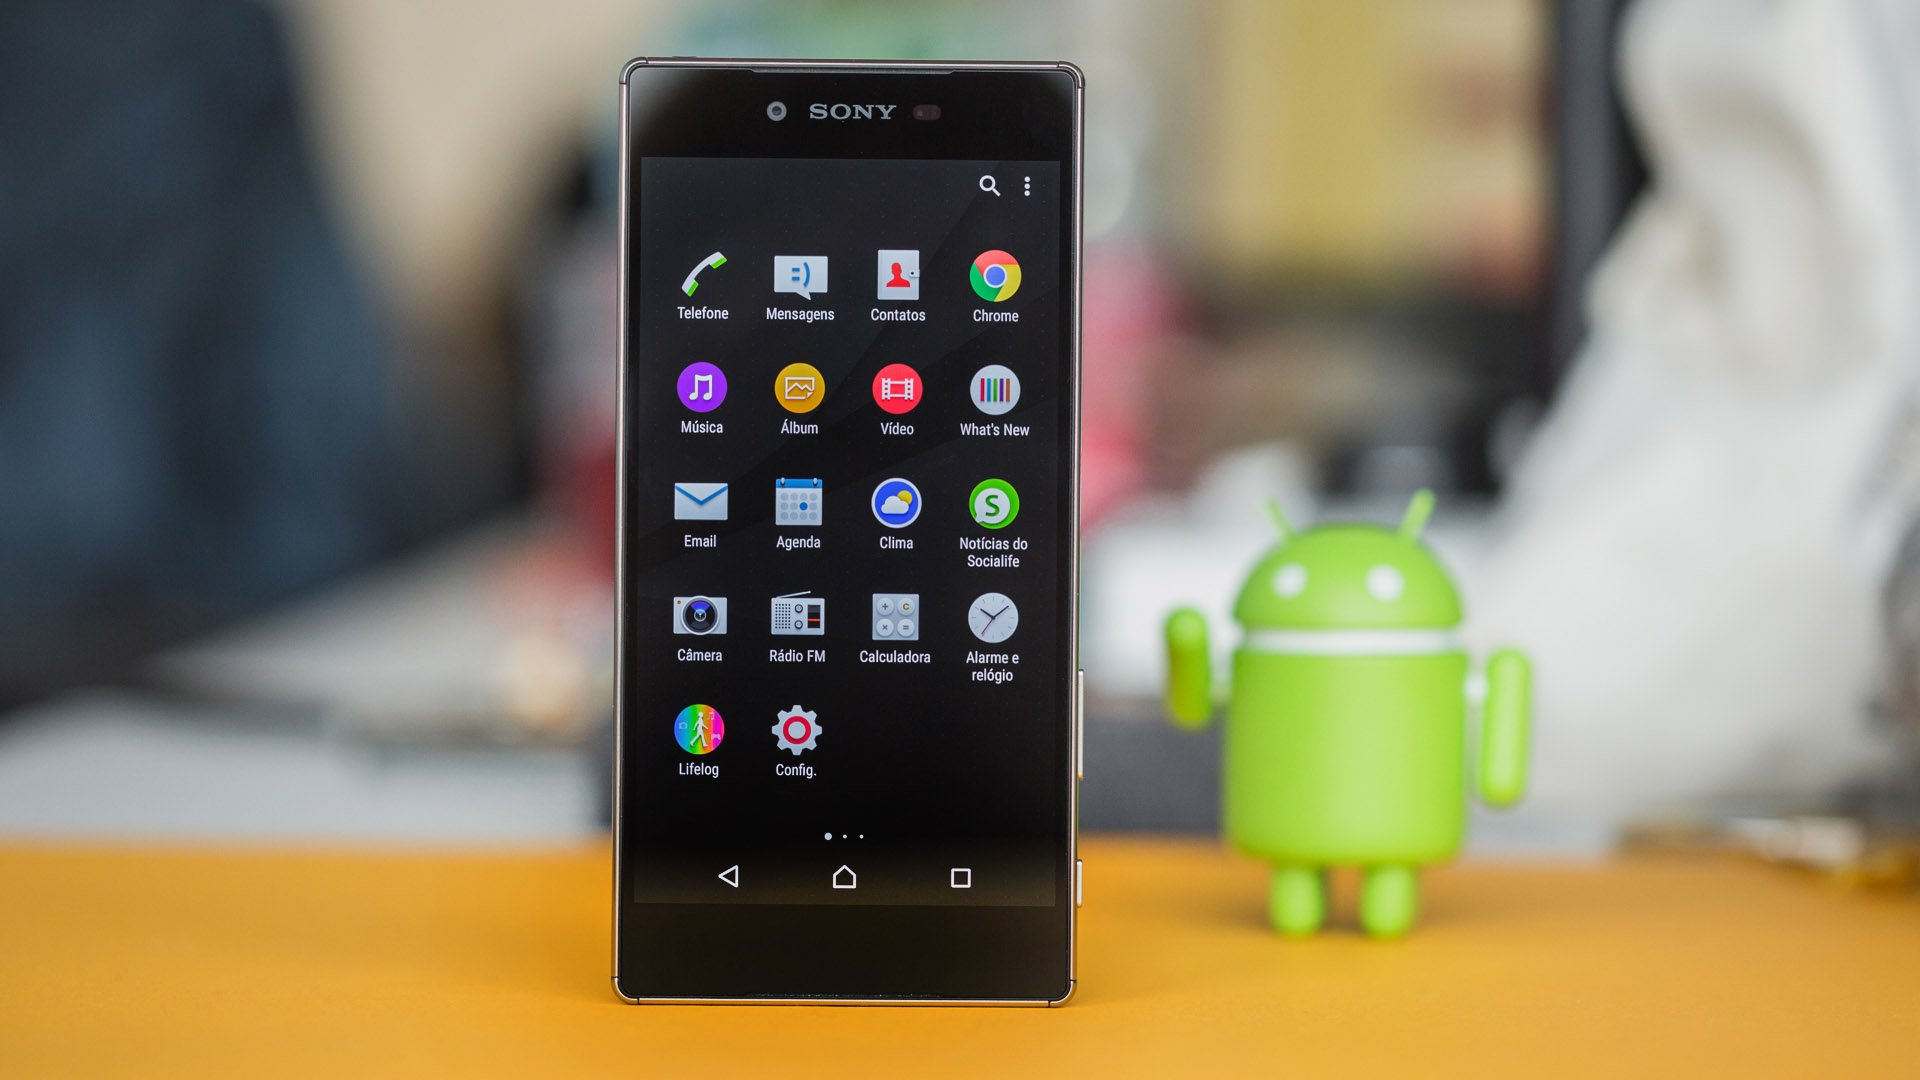smartphone: (611, 55, 1087, 1007)
